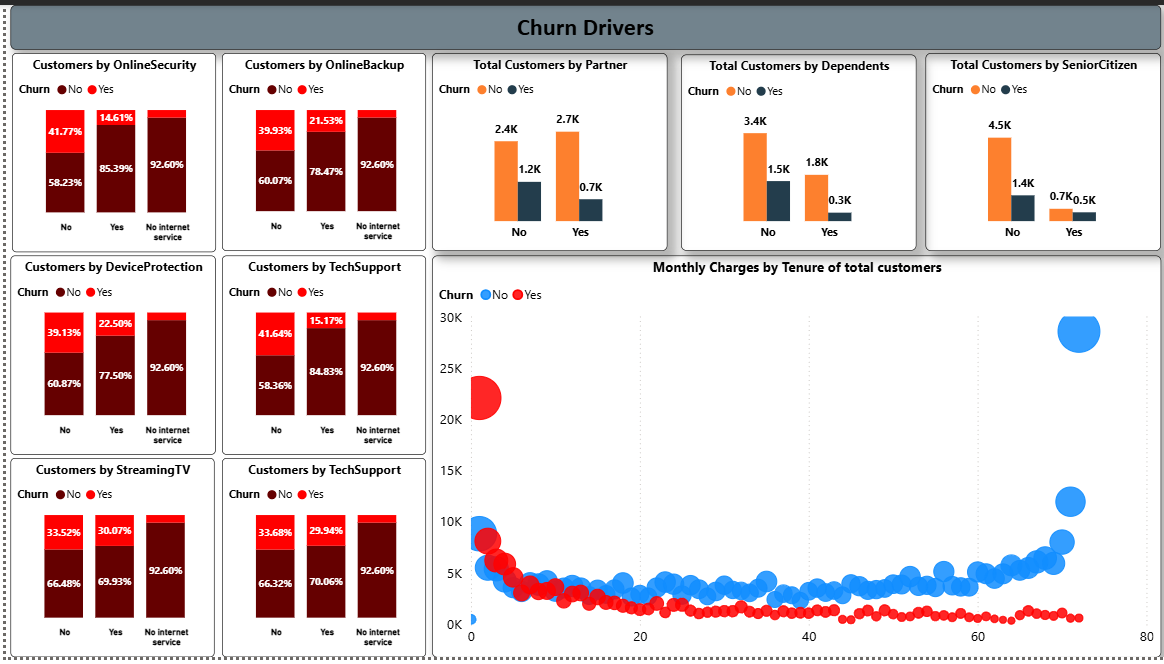

The page's visual inventory and layout, read from the dashboard file:
{"tool":"powerbi","page":{"name":"Page 2","canvas":[1280,720],"ordinal":1},"visuals":[{"type":"textbox","box":[5,0,1270.5,49],"z":0},{"type":"scatterChart","title":"Monthly Charges by Tenure of total customers","fields":{"X":["2 Cleaned_data.tenure"],"Y":["Sum(2 Cleaned_data.MonthlyCharges)"],"Series":["2 Cleaned_data.Churn"],"Size":["CountNonNull(2 Cleaned_data.customerID)"]},"box":[470.4,276.6,805,443.9],"z":1000},{"type":"clusteredColumnChart","title":"Total Customers by Partner","fields":{"Category":["2 Cleaned_data.Partner"],"Y":["2 Cleaned_data.Total Customers"],"Series":["2 Cleaned_data.Churn"]},"box":[470.4,53,260.1,218.7],"z":2000},{"type":"clusteredColumnChart","title":"Total Customers by Dependents","fields":{"Y":["2 Cleaned_data.Total Customers"],"Category":["2 Cleaned_data.Dependents"],"Series":["2 Cleaned_data.Churn"]},"box":[745.4,54.7,260.1,217],"z":3000},{"type":"clusteredColumnChart","title":"Total Customers by SeniorCitizen","fields":{"Y":["2 Cleaned_data.Total Customers"],"Series":["2 Cleaned_data.Churn"],"Category":["2 Cleaned_data.SeniorCitizen"]},"box":[1015.4,53,260.1,218.7],"z":4000},{"type":"hundredPercentStackedColumnChart","title":"Customers by OnlineSecurity","fields":{"Category":["2 Cleaned_data.OnlineSecurity"],"Y":["2 Cleaned_data.Total Customers"],"Series":["2 Cleaned_data.Churn"]},"box":[6,53,225,220],"z":5000},{"type":"hundredPercentStackedColumnChart","title":"Customers by OnlineBackup","fields":{"Y":["2 Cleaned_data.Total Customers"],"Series":["2 Cleaned_data.Churn"],"Category":["2 Cleaned_data.OnlineBackup"]},"box":[238,53,225.3,218.7],"z":6000},{"type":"hundredPercentStackedColumnChart","title":"Customers by DeviceProtection","fields":{"Y":["2 Cleaned_data.Total Customers"],"Series":["2 Cleaned_data.Churn"],"Category":["2 Cleaned_data.DeviceProtection"]},"box":[5,276.6,226.9,220.3],"z":7000},{"type":"hundredPercentStackedColumnChart","title":"Customers by TechSupport","fields":{"Y":["2 Cleaned_data.Total Customers"],"Series":["2 Cleaned_data.Churn"],"Category":["2 Cleaned_data.TechSupport"]},"box":[238,276.6,225.3,220.3],"z":8000},{"type":"hundredPercentStackedColumnChart","title":"Customers by StreamingTV","fields":{"Y":["2 Cleaned_data.Total Customers"],"Series":["2 Cleaned_data.Churn"],"Category":["2 Cleaned_data.StreamingTV"]},"box":[5,500.3,225.3,220.3],"z":9000},{"type":"hundredPercentStackedColumnChart","title":"Customers by TechSupport","fields":{"Y":["2 Cleaned_data.Total Customers"],"Series":["2 Cleaned_data.Churn"],"Category":["2 Cleaned_data.StreamingMovies"]},"box":[238.5,500.3,225.3,220.3],"z":9001}]}

Visuals, with their boxes in screenshot pixels (x1, y1, x2, y2), scaled from the page's 1280x720 canvas onto the 1164x664 screenshot:
textbox: left=5, top=0, right=1160, bottom=45
"Monthly Charges by Tenure of total customers" scatterChart: left=428, top=255, right=1160, bottom=663
"Total Customers by Partner" clusteredColumnChart: left=428, top=49, right=664, bottom=251
"Total Customers by Dependents" clusteredColumnChart: left=678, top=50, right=914, bottom=251
"Total Customers by SeniorCitizen" clusteredColumnChart: left=923, top=49, right=1160, bottom=251
"Customers by OnlineSecurity" hundredPercentStackedColumnChart: left=5, top=49, right=210, bottom=252
"Customers by OnlineBackup" hundredPercentStackedColumnChart: left=216, top=49, right=421, bottom=251
"Customers by DeviceProtection" hundredPercentStackedColumnChart: left=5, top=255, right=211, bottom=458
"Customers by TechSupport" hundredPercentStackedColumnChart: left=216, top=255, right=421, bottom=458
"Customers by StreamingTV" hundredPercentStackedColumnChart: left=5, top=461, right=209, bottom=663
"Customers by TechSupport" hundredPercentStackedColumnChart: left=217, top=461, right=422, bottom=663
